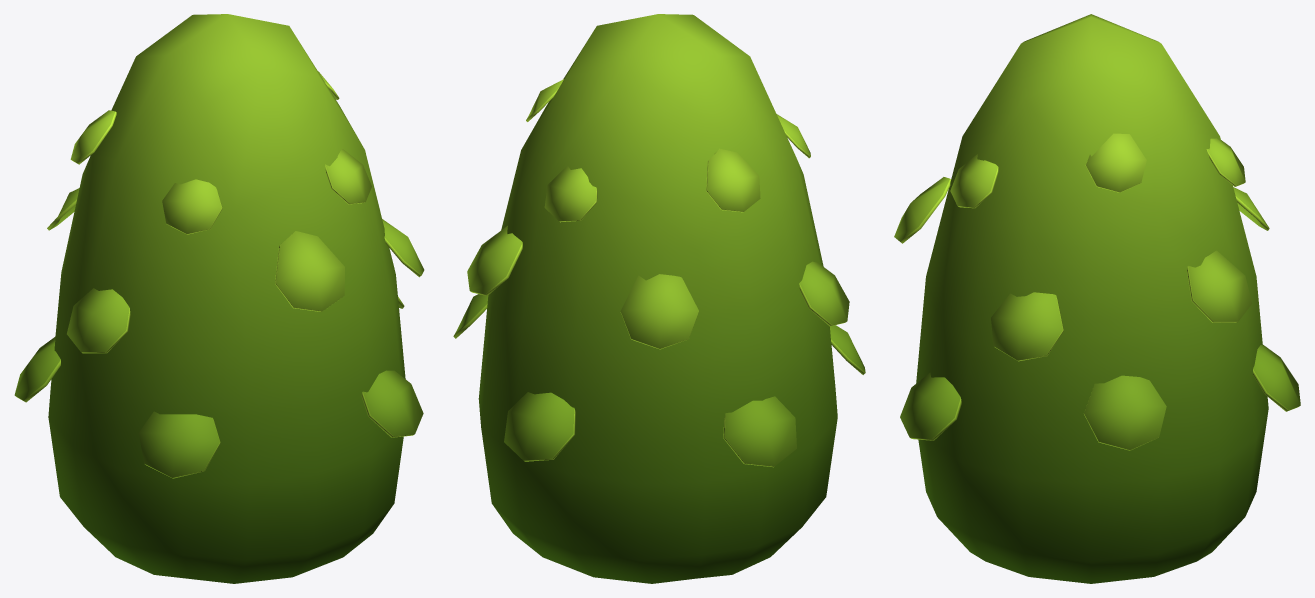
Rendered from mt_prop_p02.fbx.
3 views of the same model, side by side, from view 1: azimuth 30°, elevation 25°; view 2: azimuth 150°, elevation 25°; view 3: azimuth 270°, elevation 25° (orthographic).
Parts seen in each view (by area): view 1: prop_p02; view 2: prop_p02; view 3: prop_p02.
Boxes of the visible parts, x1,y1,x2,y2 form: prop_p02: [14, 14, 424, 583]; prop_p02: [453, 14, 865, 583]; prop_p02: [894, 14, 1300, 583].
Size of the model in its own units: 63.16 by 91.03 by 63.37.
